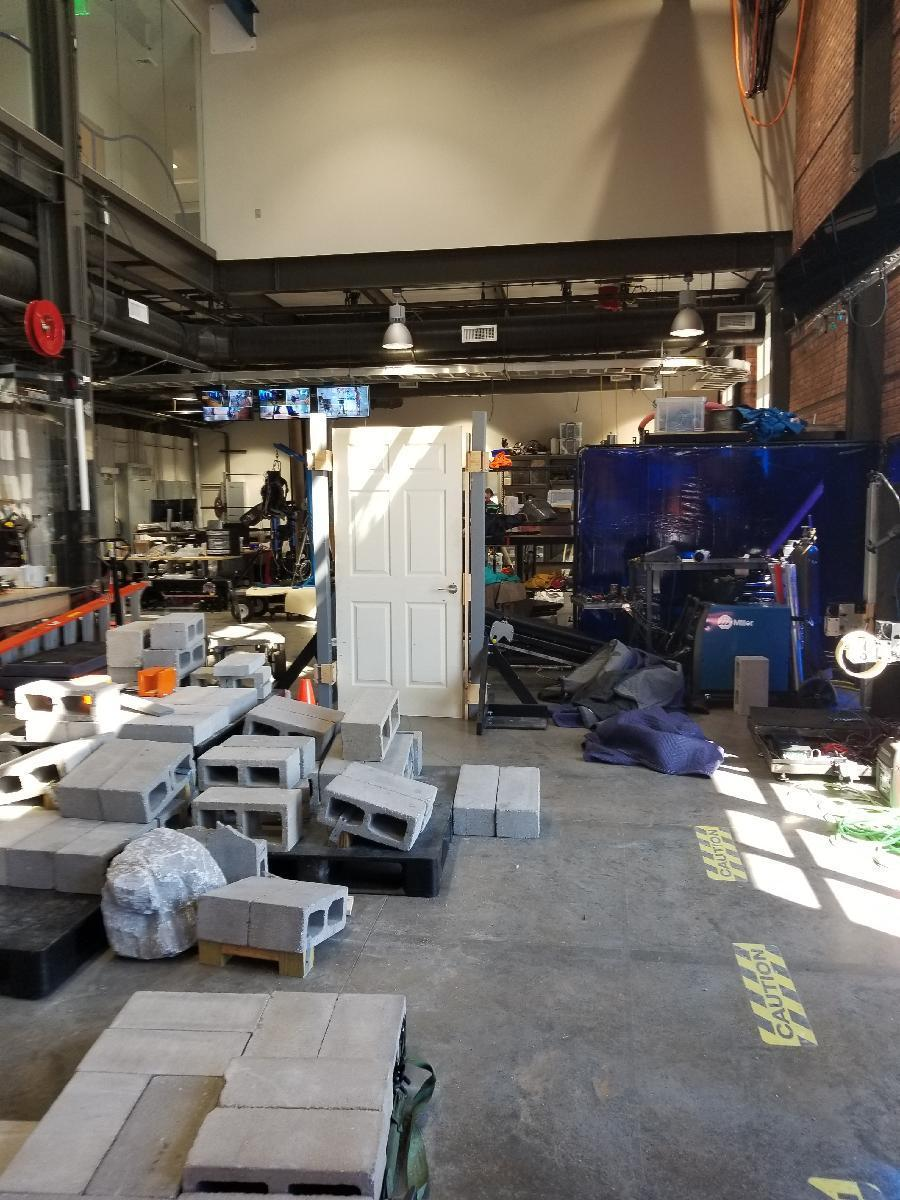door: (328, 425, 460, 720)
handle: (434, 581, 459, 594)
